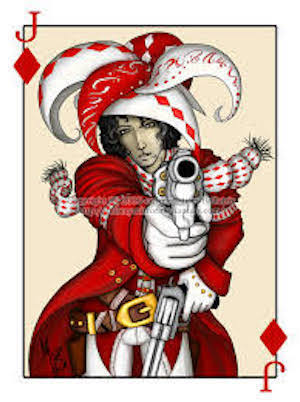JackOfDiamonds: (10, 6, 294, 398)
